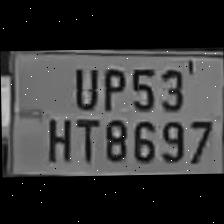3: (155, 63, 184, 111)
5: (125, 64, 154, 112)
6: (128, 116, 155, 163)
7: (183, 116, 212, 166)
8: (100, 114, 127, 162)
9: (157, 116, 184, 162)
H: (40, 112, 72, 162)
P: (97, 62, 124, 110)
T: (70, 114, 99, 162)
U: (66, 60, 97, 109)
